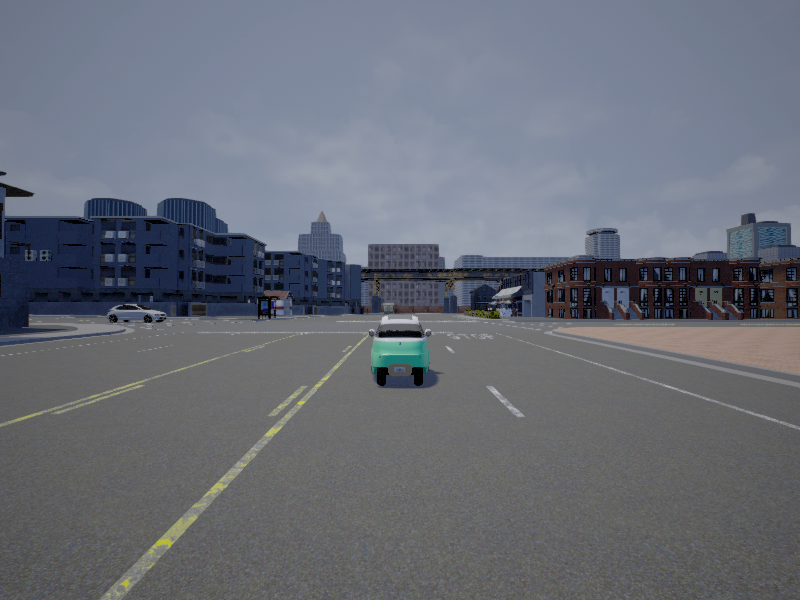Benign: (367, 313, 432, 386), (107, 303, 169, 325)
